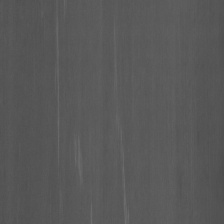silk_spot: (107, 16, 135, 221), (47, 12, 65, 173), (73, 128, 86, 183)
